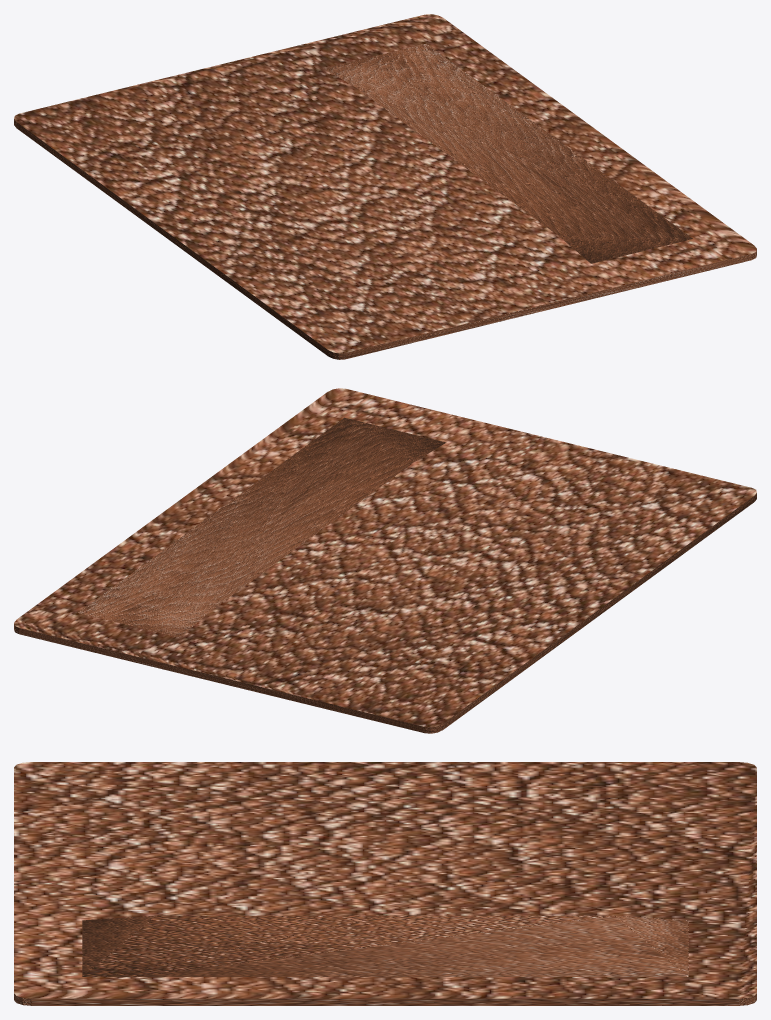
The model's file is estuche.fbx.
3 views of the same model, one above another, from view 1: azimuth 30°, elevation 25°; view 2: azimuth 150°, elevation 25°; view 3: azimuth 270°, elevation 25° (orthographic). The views are drawn at different scales.
Visible parts, largest first — view 1: Cube, Plane; view 2: Cube, Plane; view 3: Cube, Plane.
Boxes of the visible parts, left/top/right/bottom form: Cube: left=14, top=14, right=756, bottom=359; Plane: left=324, top=43, right=692, bottom=263; Cube: left=14, top=388, right=756, bottom=733; Plane: left=78, top=417, right=446, bottom=637; Cube: left=14, top=762, right=756, bottom=1005; Plane: left=82, top=915, right=688, bottom=976.
Bounding box in the file's own units: 46.21 × 1.08 × 61.31.
